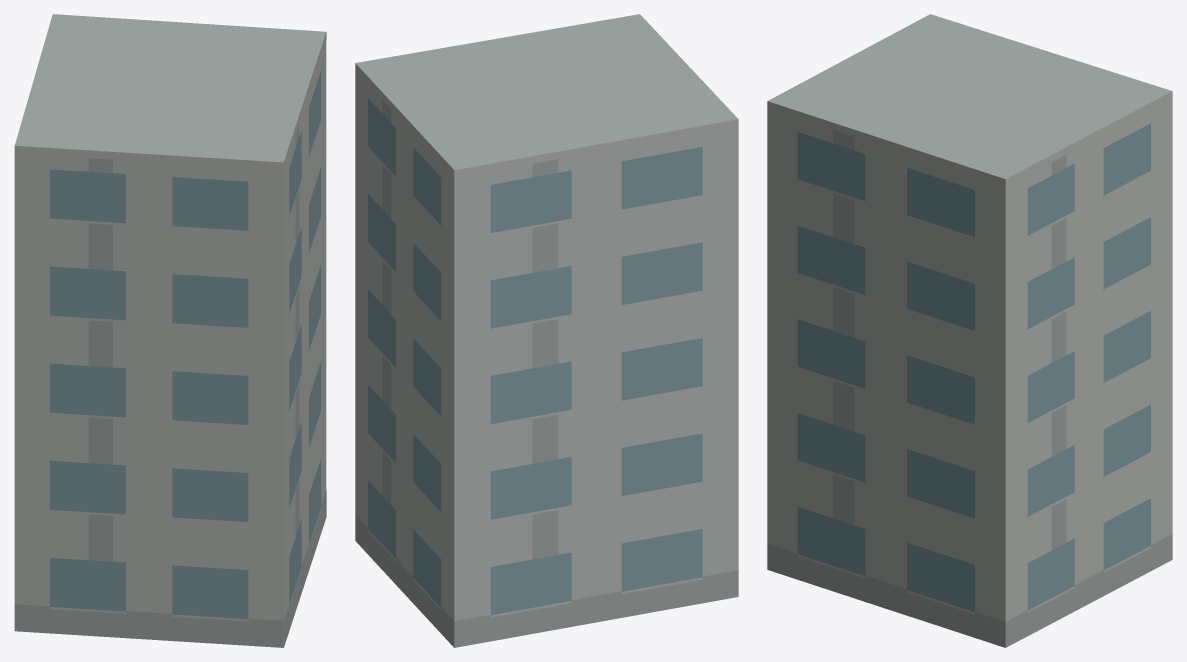
The model's file is survey-upis-32841397.glb.
3 views of the same model, side by side, from view 1: azimuth 30°, elevation 25°; view 2: azimuth 150°, elevation 25°; view 3: azimuth 270°, elevation 25° (orthographic). The views are drawn at different scales.
Visible parts, largest first — view 1: survey-upis-32841397.tmp; view 2: survey-upis-32841397.tmp; view 3: survey-upis-32841397.tmp.
Part boxes in pixels (x1=…): survey-upis-32841397.tmp: x1=14, y1=14, x2=326, y2=647; survey-upis-32841397.tmp: x1=355, y1=14, x2=738, y2=647; survey-upis-32841397.tmp: x1=767, y1=14, x2=1172, y2=647.
Bounding box in the file's own units: 11.54 × 15.25 × 11.95.
